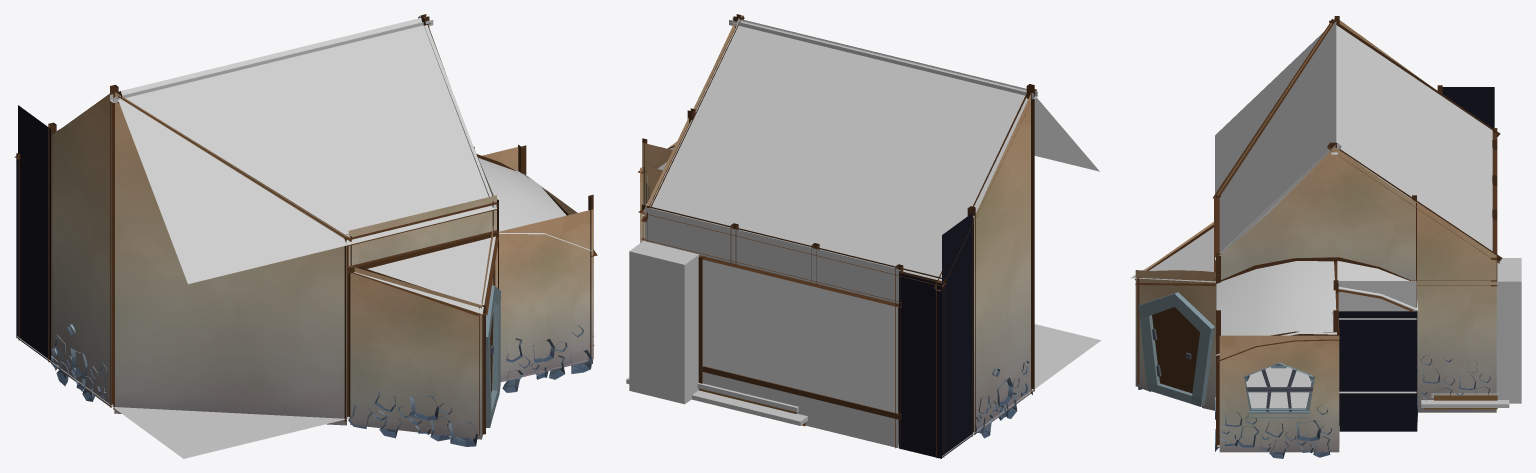
File: blockout-studio2.fbx
3 views of the same model, side by side, from view 1: azimuth 30°, elevation 25°; view 2: azimuth 150°, elevation 25°; view 3: azimuth 270°, elevation 25° (orthographic). The views are drawn at different scales.
Parts seen in each view (by area): view 1: Cube.043, Plane.003, Cube.050, Cube.037, Cube.026, Cube.083, Cube, Cube.053, Cube.051, Plane.002, Cube.095, Cube.164 (+7 smaller); view 2: Cube.052, Cube.055, Cube.037, Cube.024, Cube.044, Cube.010, Cube.083, Cube.009, Cube.043, Cube, Cube.057, Cube.146 (+11 smaller); view 3: Cube.052, Cube.036, Cube.043, Cube.020, Cube.025, Cube.022, Plane.002, Cube.046, Cube.024, Cube.095, Cube.094, Cube.032 (+15 smaller).
Part boxes in pixels (bbox=[...]): Cube.043: bbox=[118, 17, 496, 283]; Plane.003: bbox=[114, 92, 346, 425]; Cube.050: bbox=[350, 266, 481, 439]; Cube.037: bbox=[51, 92, 111, 407]; Cube.026: bbox=[495, 209, 593, 382]; Cube.083: bbox=[18, 105, 50, 362]; Cube: bbox=[17, 336, 593, 458]; Cube.053: bbox=[354, 236, 495, 314]; Cube.051: bbox=[348, 195, 496, 266]; Plane.002: bbox=[478, 158, 592, 251]; Cube.095: bbox=[486, 285, 500, 427]; Cube.164: bbox=[110, 84, 118, 409]; Cube.052: bbox=[649, 21, 1033, 280]; Cube.055: bbox=[702, 259, 897, 413]; Cube.037: bbox=[974, 94, 1030, 434]; Cube.024: bbox=[629, 241, 699, 404]; Cube.044: bbox=[645, 207, 898, 303]; Cube.010: bbox=[899, 273, 941, 458]; Cube.083: bbox=[942, 212, 973, 457]; Cube.009: bbox=[702, 372, 898, 448]; Cube.043: bbox=[739, 19, 1099, 171]; Cube: bbox=[898, 324, 1100, 456]; Cube.057: bbox=[729, 17, 1037, 99]; Cube.146: bbox=[626, 377, 807, 425]; Cube.052: bbox=[1336, 25, 1492, 250]; Cube.036: bbox=[1219, 147, 1415, 280]; Cube.043: bbox=[1215, 21, 1336, 260]; Cube.020: bbox=[1417, 202, 1496, 412]; Cube.025: bbox=[1219, 335, 1339, 452]; Cube.022: bbox=[1338, 311, 1417, 431]; Plane.002: bbox=[1216, 261, 1336, 355]; Cube.046: bbox=[1135, 270, 1215, 410]; Cube.024: bbox=[1496, 258, 1521, 403]; Cube.095: bbox=[1138, 292, 1214, 406]; Cube.094: bbox=[1152, 307, 1199, 393]; Cube.032: bbox=[1338, 281, 1416, 319].
Size of the model in its own units: 3069 by 2347 by 2995.
